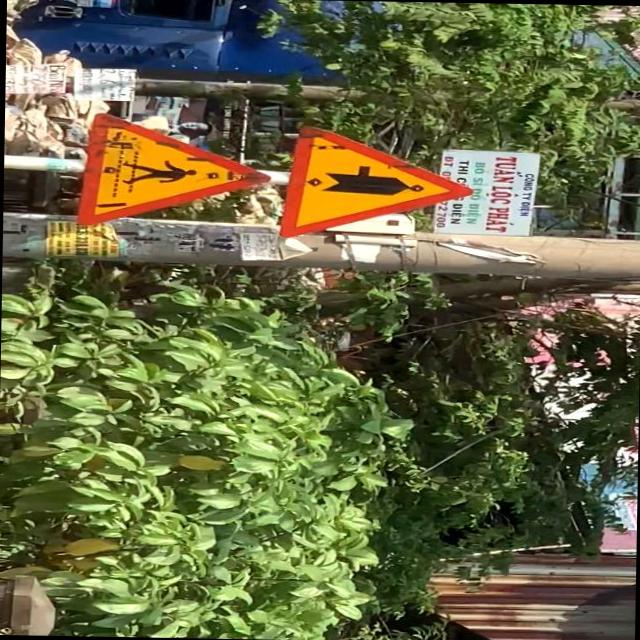W-207c: (274, 123, 474, 241)
W-224: (73, 111, 275, 228)
